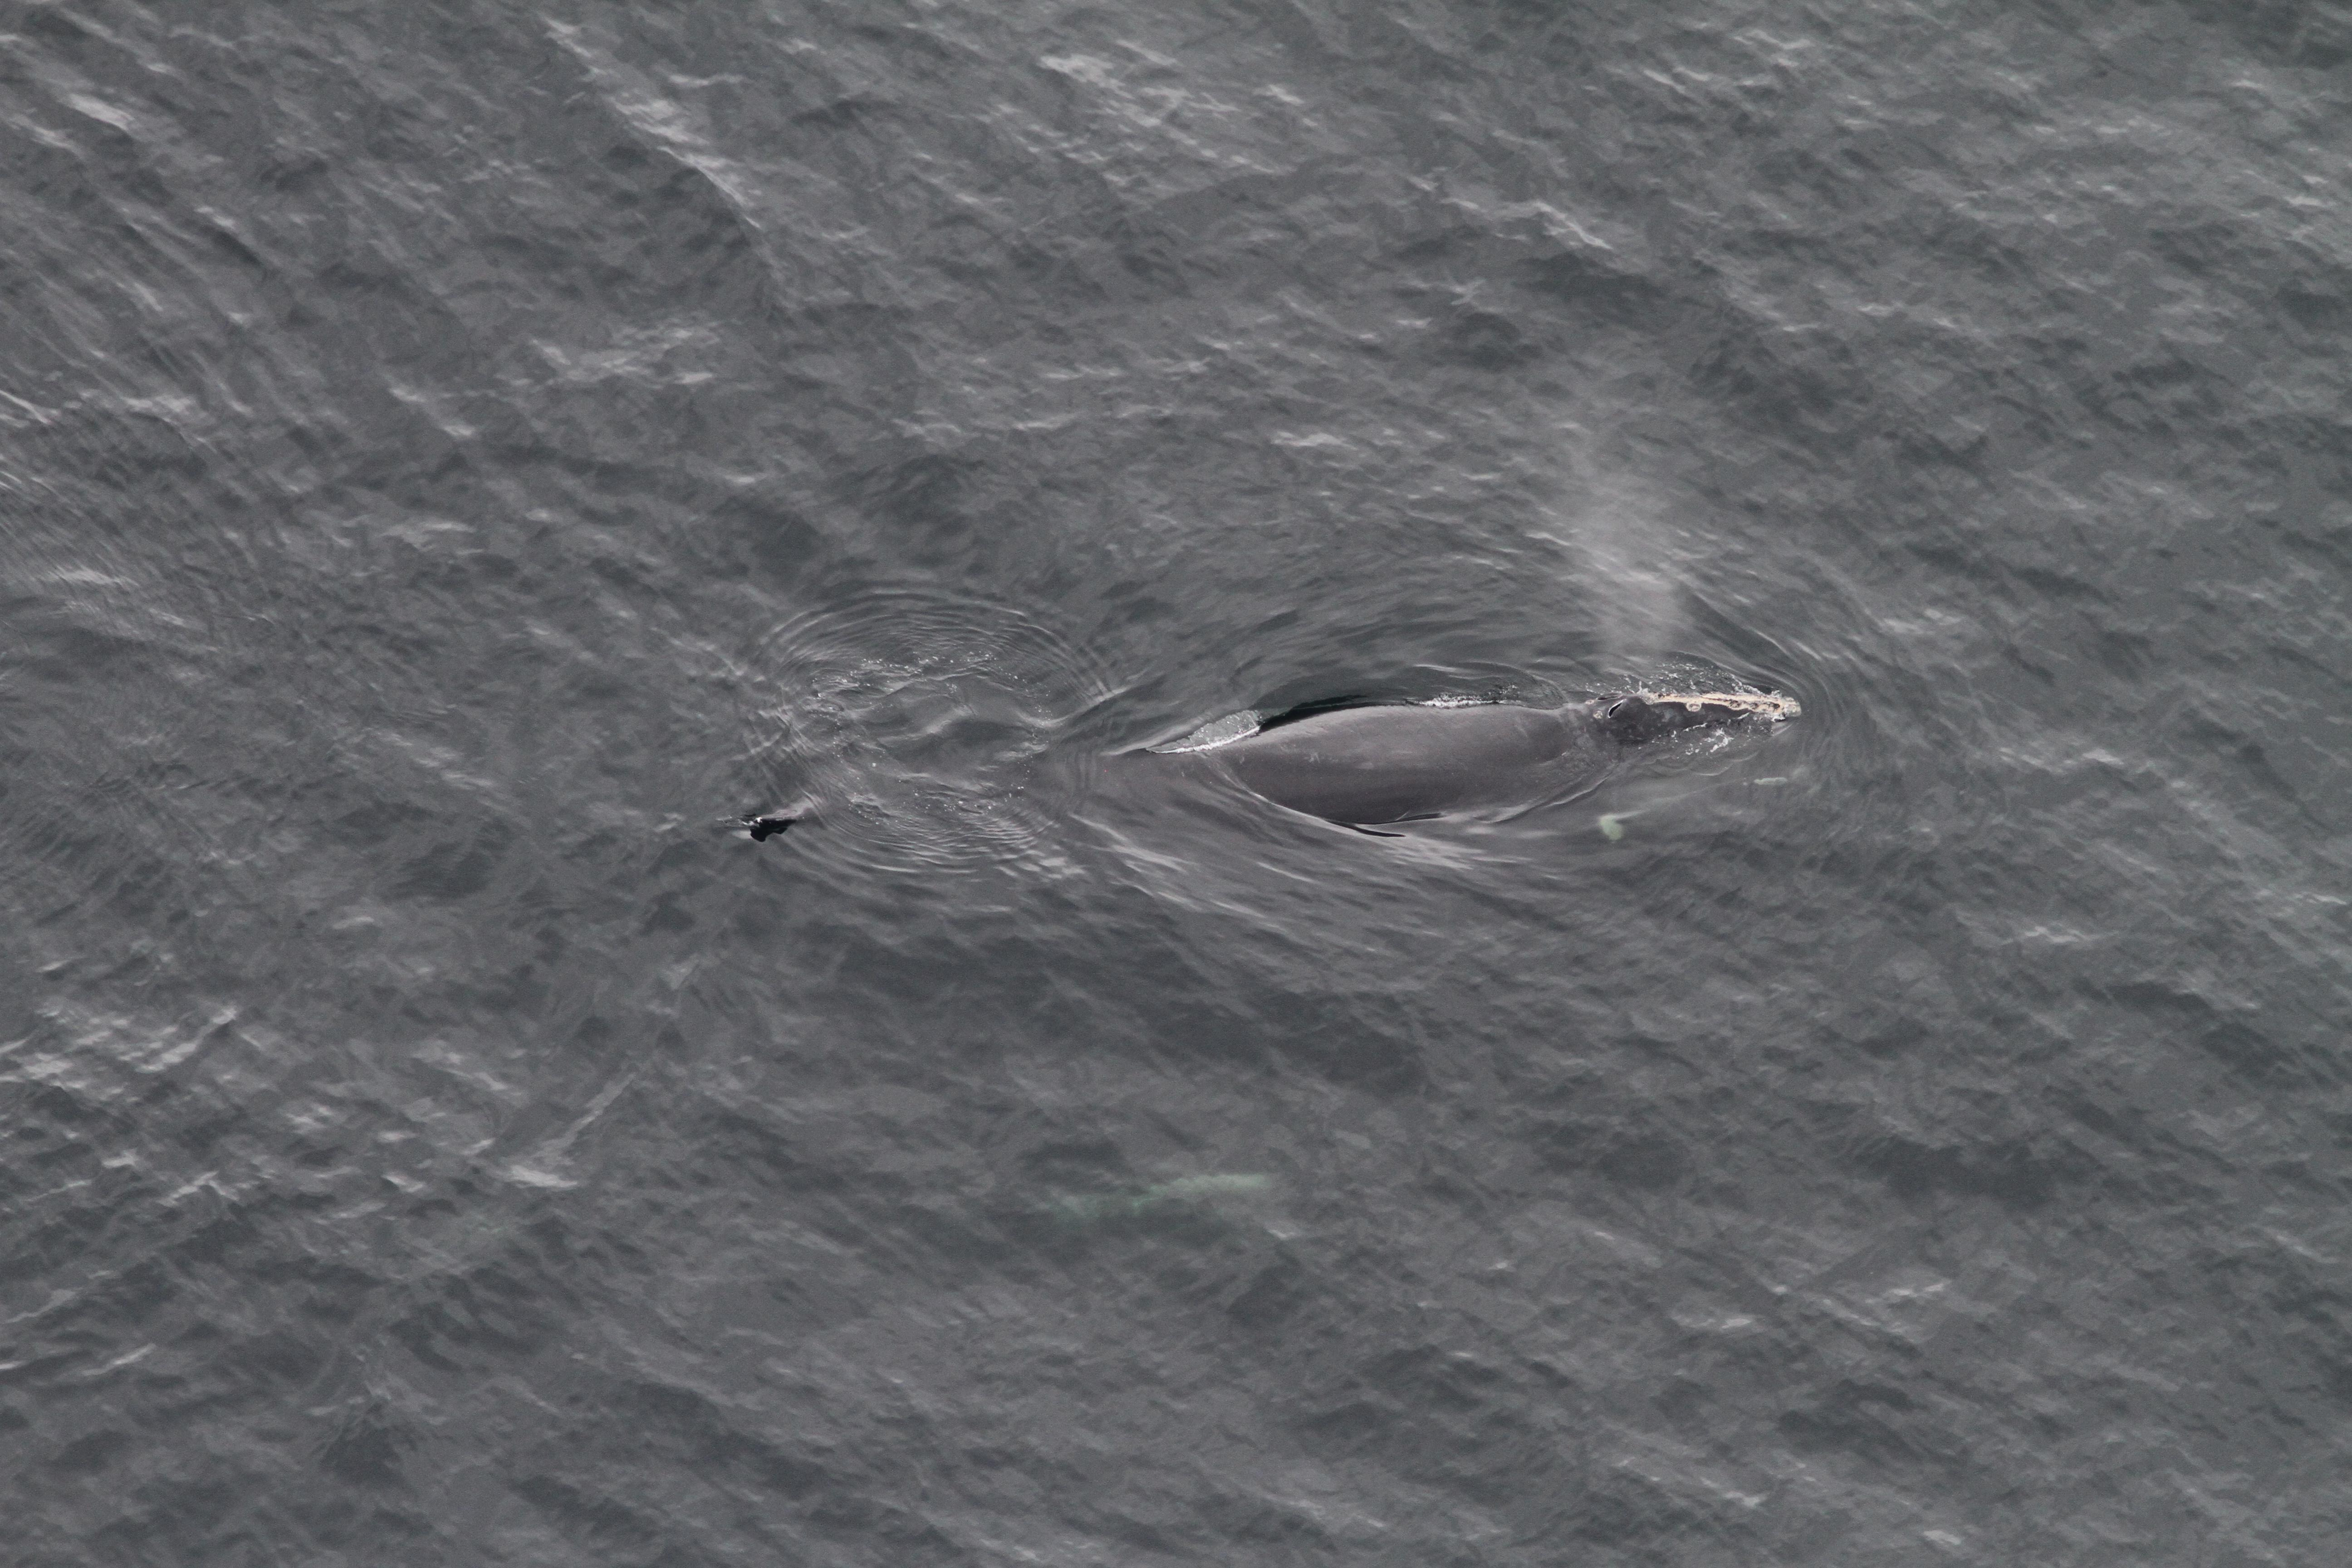whale: (738, 675, 1790, 882)
